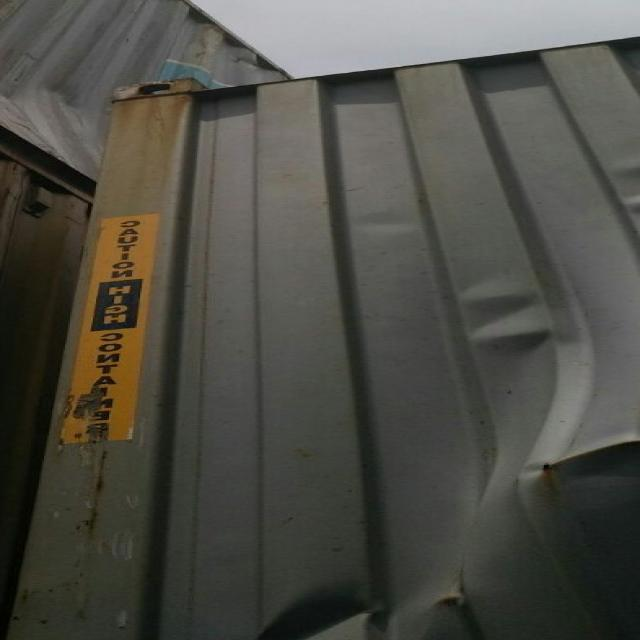dent: (392, 341, 638, 640), (245, 581, 389, 640), (469, 314, 558, 352), (450, 277, 540, 311), (344, 207, 420, 237), (602, 157, 640, 181), (614, 192, 640, 215)
